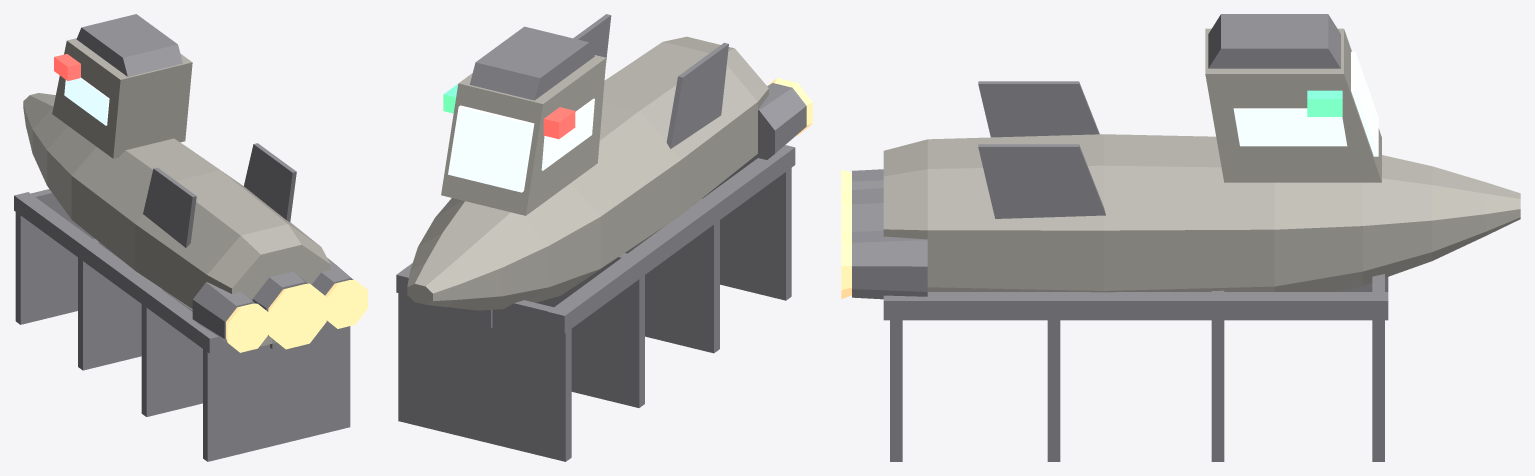
The model's file is kestrel.glb.
3 views of the same model, side by side, from view 1: azimuth 30°, elevation 25°; view 2: azimuth 150°, elevation 25°; view 3: azimuth 270°, elevation 25° (orthographic). The views are drawn at different scales.
Parts seen in each view (by area): view 1: kestrel; view 2: kestrel; view 3: kestrel.
Part boxes in pixels (x1,y1,x2,y2): kestrel: [14, 14, 367, 461]; kestrel: [396, 14, 812, 461]; kestrel: [841, 14, 1520, 461].
Size of the model in its own units: 0.3379 by 0.675 by 1.08.
